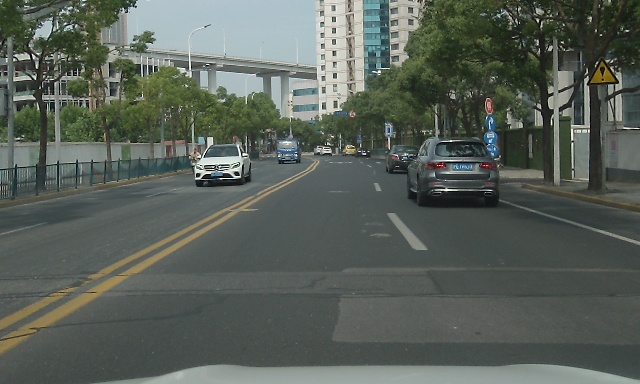car: (407, 136, 499, 206), (194, 145, 251, 187), (385, 145, 424, 174), (355, 147, 370, 158), (342, 145, 356, 156), (314, 146, 326, 155), (320, 147, 332, 156)
motorcycle: (188, 148, 202, 175)
truck: (274, 139, 302, 164)
